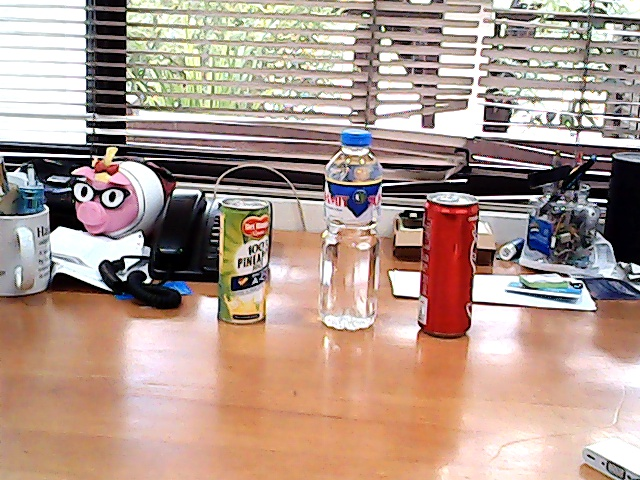Cola: (415, 189, 484, 341)
Pine Juice: (213, 190, 275, 327)
Summit Water: (315, 125, 387, 334)
